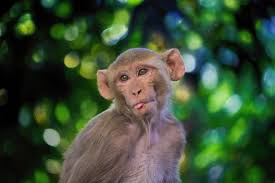monkey: (73, 35, 193, 159)
